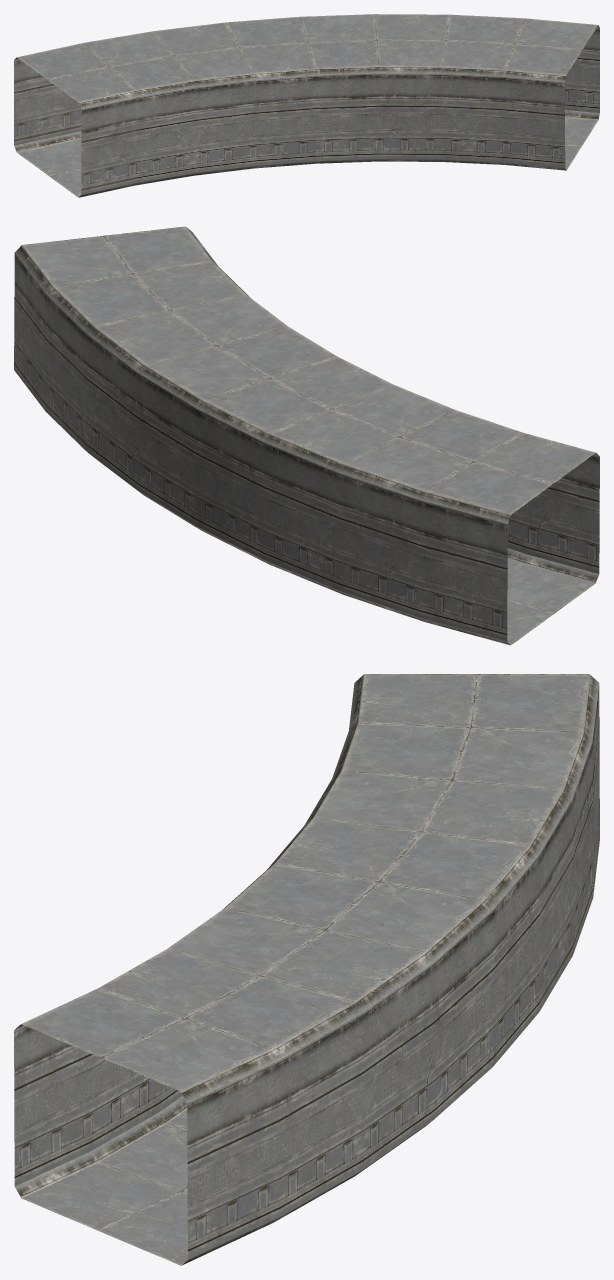
The model's file is FBX_Ledge_Corner_Half.fbx.
The picture shows the model from 3 angles, top to bottom: view 1: azimuth 30°, elevation 25°; view 2: azimuth 150°, elevation 25°; view 3: azimuth 270°, elevation 25°; orthographic projection. The views are drawn at different scales.
Parts seen in each view (by area): view 1: Ledge_Corner_Half; view 2: Ledge_Corner_Half; view 3: Ledge_Corner_Half.
Part boxes in pixels (x1,y1,x2,y2): Ledge_Corner_Half: [14, 14, 599, 197]; Ledge_Corner_Half: [14, 226, 599, 645]; Ledge_Corner_Half: [14, 674, 599, 1265].
Bounding box in the file's own units: 778 × 150 × 458.
1 material, 1 textured.
